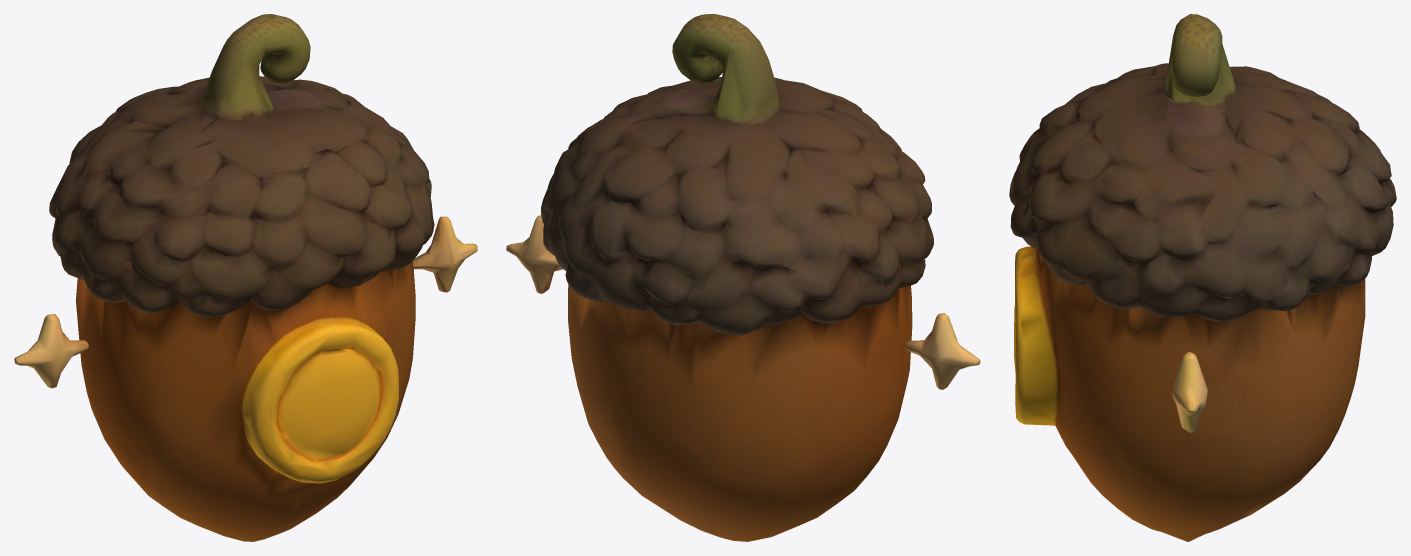
File: item-double-seed.glb
The picture shows the model from 3 angles, left to right: view 1: azimuth 30°, elevation 25°; view 2: azimuth 150°, elevation 25°; view 3: azimuth 270°, elevation 25°; orthographic projection. The views are drawn at different scales.
Visible parts, largest first — view 1: Mesh_0; view 2: Mesh_0; view 3: Mesh_0.
Part boxes in pixels (<box>): Mesh_0: <box>14,14,477,541</box>; Mesh_0: <box>506,14,980,541</box>; Mesh_0: <box>1009,14,1396,541</box>.
Bounding box in the file's own units: 1.89 × 2 × 1.34.
Materials: 1 (1 with a texture image).
